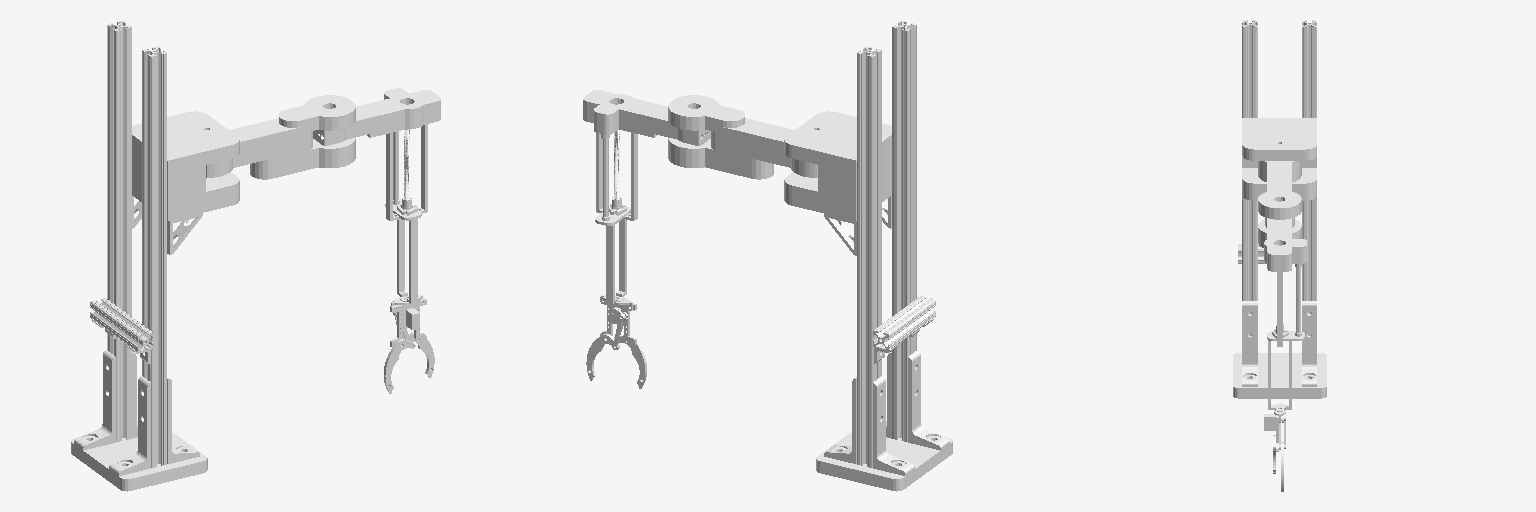
The robot description file, URDF, robot "SCARA_robot_2":
<?xml version="1.0" encoding="utf-8"?>
<!-- This URDF was automatically created by SolidWorks to URDF Exporter! Originally created by [author] ([email redacted]) 
     Commit Version: 1.5.1-0-g916b5db  Build Version: 1.5.7152.31018
     For more information, please see http://wiki.ros.org/sw_urdf_exporter -->
<robot
  name="SCARA_robot_2">
  <link
    name="base_link">
    <inertial>
      <origin
        xyz="0.0245 -0.0001542 0.21373"
        rpy="0 0 0" />
      <mass
        value="2.5675" />
      <inertia
        ixx="0.0068861"
        ixy="5.4055E-11"
        ixz="5.5326E-05"
        iyy="0.0063943"
        iyz="-3.5928E-12"
        izz="0.0057933" />
    </inertial>
    <visual>
      <origin
        xyz="0 0 0"
        rpy="0 0 0" />
      <geometry>
        <mesh
          filename="package://SCARA_robot_2/meshes/base_link.STL" />
      </geometry>
      <material
        name="">
        <color
          rgba="1 1 1 0.32" />
      </material>
    </visual>
    <collision>
      <origin
        xyz="0 0 0"
        rpy="0 0 0" />
      <geometry>
        <mesh
          filename="package://SCARA_robot_2/meshes/base_link.STL" />
      </geometry>
    </collision>
  </link>
  <link
    name="Link1">
    <inertial>
      <origin
        xyz="0.11741 -1.2536E-10 0.17845"
        rpy="0 0 0" />
      <mass
        value="0.56913" />
      <inertia
        ixx="0.00039544"
        ixy="5.3746E-13"
        ixz="0.00012455"
        iyy="0.0022395"
        iyz="3.5503E-13"
        izz="0.0021109" />
    </inertial>
    <visual>
      <origin
        xyz="0 0 0"
        rpy="0 0 0" />
      <geometry>
        <mesh
          filename="package://SCARA_robot_2/meshes/Link1.STL" />
      </geometry>
      <material
        name="">
        <color
          rgba="1 1 1 1" />
      </material>
    </visual>
    <collision>
      <origin
        xyz="0 0 0"
        rpy="0 0 0" />
      <geometry>
        <mesh
          filename="package://SCARA_robot_2/meshes/Link1.STL" />
      </geometry>
    </collision>
  </link>
  <joint
    name="Joint1"
    type="revolute">
    <origin
      xyz="0.10571 -0.0001601 0.22388"
      rpy="0 0 0" />
    <parent
      link="base_link" />
    <child
      link="Link1" />
    <axis
      xyz="0 0 1" />
    <limit
      lower="-2"
      upper="2"
      effort="0"
      velocity="1" />
  </joint>
  <link
    name="Link2">
    <inertial>
      <origin
        xyz="0.08295 0.0028302 0.0097709"
        rpy="0 0 0" />
      <mass
        value="0.21287" />
      <inertia
        ixx="6.5707E-05"
        ixy="-1.7413E-05"
        ixz="8.4824E-06"
        iyy="0.00039039"
        iyz="7.8423E-07"
        izz="0.00042599" />
    </inertial>
    <visual>
      <origin
        xyz="0 0 0"
        rpy="0 0 0" />
      <geometry>
        <mesh
          filename="package://SCARA_robot_2/meshes/Link2.STL" />
      </geometry>
      <material
        name="">
        <color
          rgba="1 1 1 1" />
      </material>
    </visual>
    <collision>
      <origin
        xyz="0 0 0"
        rpy="0 0 0" />
      <geometry>
        <mesh
          filename="package://SCARA_robot_2/meshes/Link2.STL" />
      </geometry>
    </collision>
  </link>
  <joint
    name="Joint2"
    type="revolute">
    <origin
      xyz="0.19 0 0.171"
      rpy="0 0 0" />
    <parent
      link="Link1" />
    <child
      link="Link2" />
    <axis
      xyz="0 0 1" />
    <limit
      lower="-2"
      upper="2"
      effort="0"
      velocity="1" />
  </joint>
  <link
    name="Tool">
    <inertial>
      <origin
        xyz="-4.2765E-06 -0.0029999 0.034878"
        rpy="0 0 0" />
      <mass
        value="0.023545" />
      <inertia
        ixx="4.5655E-05"
        ixy="-7.9416E-09"
        ixz="-4.5566E-09"
        iyy="4.0072E-05"
        iyz="-3.1747E-06"
        izz="6.9964E-06" />
    </inertial>
    <visual>
      <origin
        xyz="0 0 0"
        rpy="0 0 0" />
      <geometry>
        <mesh
          filename="package://SCARA_robot_2/meshes/Tool.STL" />
      </geometry>
      <material
        name="">
        <color
          rgba="1 1 1 1" />
      </material>
    </visual>
    <collision>
      <origin
        xyz="0 0 0"
        rpy="0 0 0" />
      <geometry>
        <mesh
          filename="package://SCARA_robot_2/meshes/Tool.STL" />
      </geometry>
    </collision>
  </link>
  <joint
    name="Tool1"
    type="prismatic">
    <origin
      xyz="0.12 0 -0.14263"
      rpy="-3.1416 0 0" />
    <parent
      link="Link2" />
    <child
      link="Tool" />
    <axis
      xyz="0 0 1" />
    <limit
      lower="0"
      upper="0.06"
      effort="0"
      velocity="0.075" />
  </joint>
  <link
    name="Link_4">
    <inertial>
      <origin
        xyz="-0.00062353 0.0043407 0.043047"
        rpy="0 0 0" />
      <mass
        value="0.031714" />
      <inertia
        ixx="7.9393E-06"
        ixy="-2.5059E-12"
        ixz="-1.7243E-07"
        iyy="1.1102E-05"
        iyz="-4.417E-08"
        izz="4.271E-06" />
    </inertial>
    <visual>
      <origin
        xyz="0 0 0"
        rpy="0 0 0" />
      <geometry>
        <mesh
          filename="package://SCARA_robot_2/meshes/Link_4.STL" />
      </geometry>
      <material
        name="">
        <color
          rgba="1 1 1 0.32" />
      </material>
    </visual>
    <collision>
      <origin
        xyz="0 0 0"
        rpy="0 0 0" />
      <geometry>
        <mesh
          filename="package://SCARA_robot_2/meshes/Link_4.STL" />
      </geometry>
    </collision>
  </link>
  <joint
    name="Revolute4"
    type="revolute">
    <origin
      xyz="0.00013701 0 0.125"
      rpy="0 0 0" />
    <parent
      link="Tool" />
    <child
      link="Link_4" />
    <axis
      xyz="0 0 1" />
    <limit
      lower="-1.57"
      upper="1.57"
      effort="0"
      velocity="0.5" />
  </joint>
  <link
    name="RigidBody">
    <inertial>
      <origin
        xyz="-1.5837E-05 -0.010966 -0.070737"
        rpy="0 0 0" />
      <mass
        value="0.05161" />
      <inertia
        ixx="9.3542E-05"
        ixy="4.0902E-12"
        ixz="1.909E-10"
        iyy="9.3599E-05"
        iyz="3.1208E-10"
        izz="5.9086E-07" />
    </inertial>
    <visual>
      <origin
        xyz="0 0 0"
        rpy="0 0 0" />
      <geometry>
        <mesh
          filename="package://SCARA_robot_2/meshes/RigidBody.STL" />
      </geometry>
      <material
        name="">
        <color
          rgba="1 1 1 1" />
      </material>
    </visual>
    <collision>
      <origin
        xyz="0 0 0"
        rpy="0 0 0" />
      <geometry>
        <mesh
          filename="package://SCARA_robot_2/meshes/RigidBody.STL" />
      </geometry>
    </collision>
  </link>
  <joint
    name="Fixed_Body"
    type="fixed">
    <origin
      xyz="0.12 0 -0.14263"
      rpy="-3.1416 0 0" />
    <parent
      link="Link2" />
    <child
      link="RigidBody" />
    <axis
      xyz="0 0 0" />
    <limit
      lower="0"
      upper="0"
      effort="0"
      velocity="0" />
    <safety_controller
      soft_upper="0"
      soft_lower="0"
      k_position="0"
      k_velocity="0" />
  </joint>
</robot>

--- Facts derived from the render (not from the file) ---
Views: 3 orthographic renders of the robot side by side, from view 1: azimuth 30°, elevation 25°; view 2: azimuth 150°, elevation 25°; view 3: azimuth 270°, elevation 25°.
Robot: SCARA_robot_2 — 6 links, 5 joints (3 revolute, 1 prismatic, 1 fixed); root link base_link; default pose: every joint at zero.
Visible links, largest first — view 1: base_link, Link1, Link2, RigidBody, Link_4, Tool; view 2: base_link, Link1, Link2, RigidBody, Link_4, Tool; view 3: base_link, Link1, Link2, Link_4, Tool, RigidBody.
Link boxes in pixels (<box>): base_link: <box>71,20,239,491</box>; Link1: <box>206,95,355,179</box>; Link2: <box>313,88,440,145</box>; RigidBody: <box>386,124,427,220</box>; Link_4: <box>384,295,434,393</box>; Tool: <box>385,197,421,303</box>; base_link: <box>784,20,952,491</box>; Link1: <box>668,95,817,179</box>; Link2: <box>583,90,710,145</box>; RigidBody: <box>596,130,637,220</box>; Link_4: <box>586,295,646,388</box>; Tool: <box>595,197,630,303</box>; base_link: <box>1233,20,1326,398</box>; Link1: <box>1258,161,1301,247</box>; Link2: <box>1264,217,1306,271</box>; Link_4: <box>1264,403,1285,491</box>; Tool: <box>1267,323,1304,409</box>; RigidBody: <box>1277,267,1300,346</box>.
Size in the robot's own frame: 0.5272 by 0.15 by 0.6276 metres.
Meshes: 6 distinct files referenced, 6 mesh visuals loaded (6 binary STL).